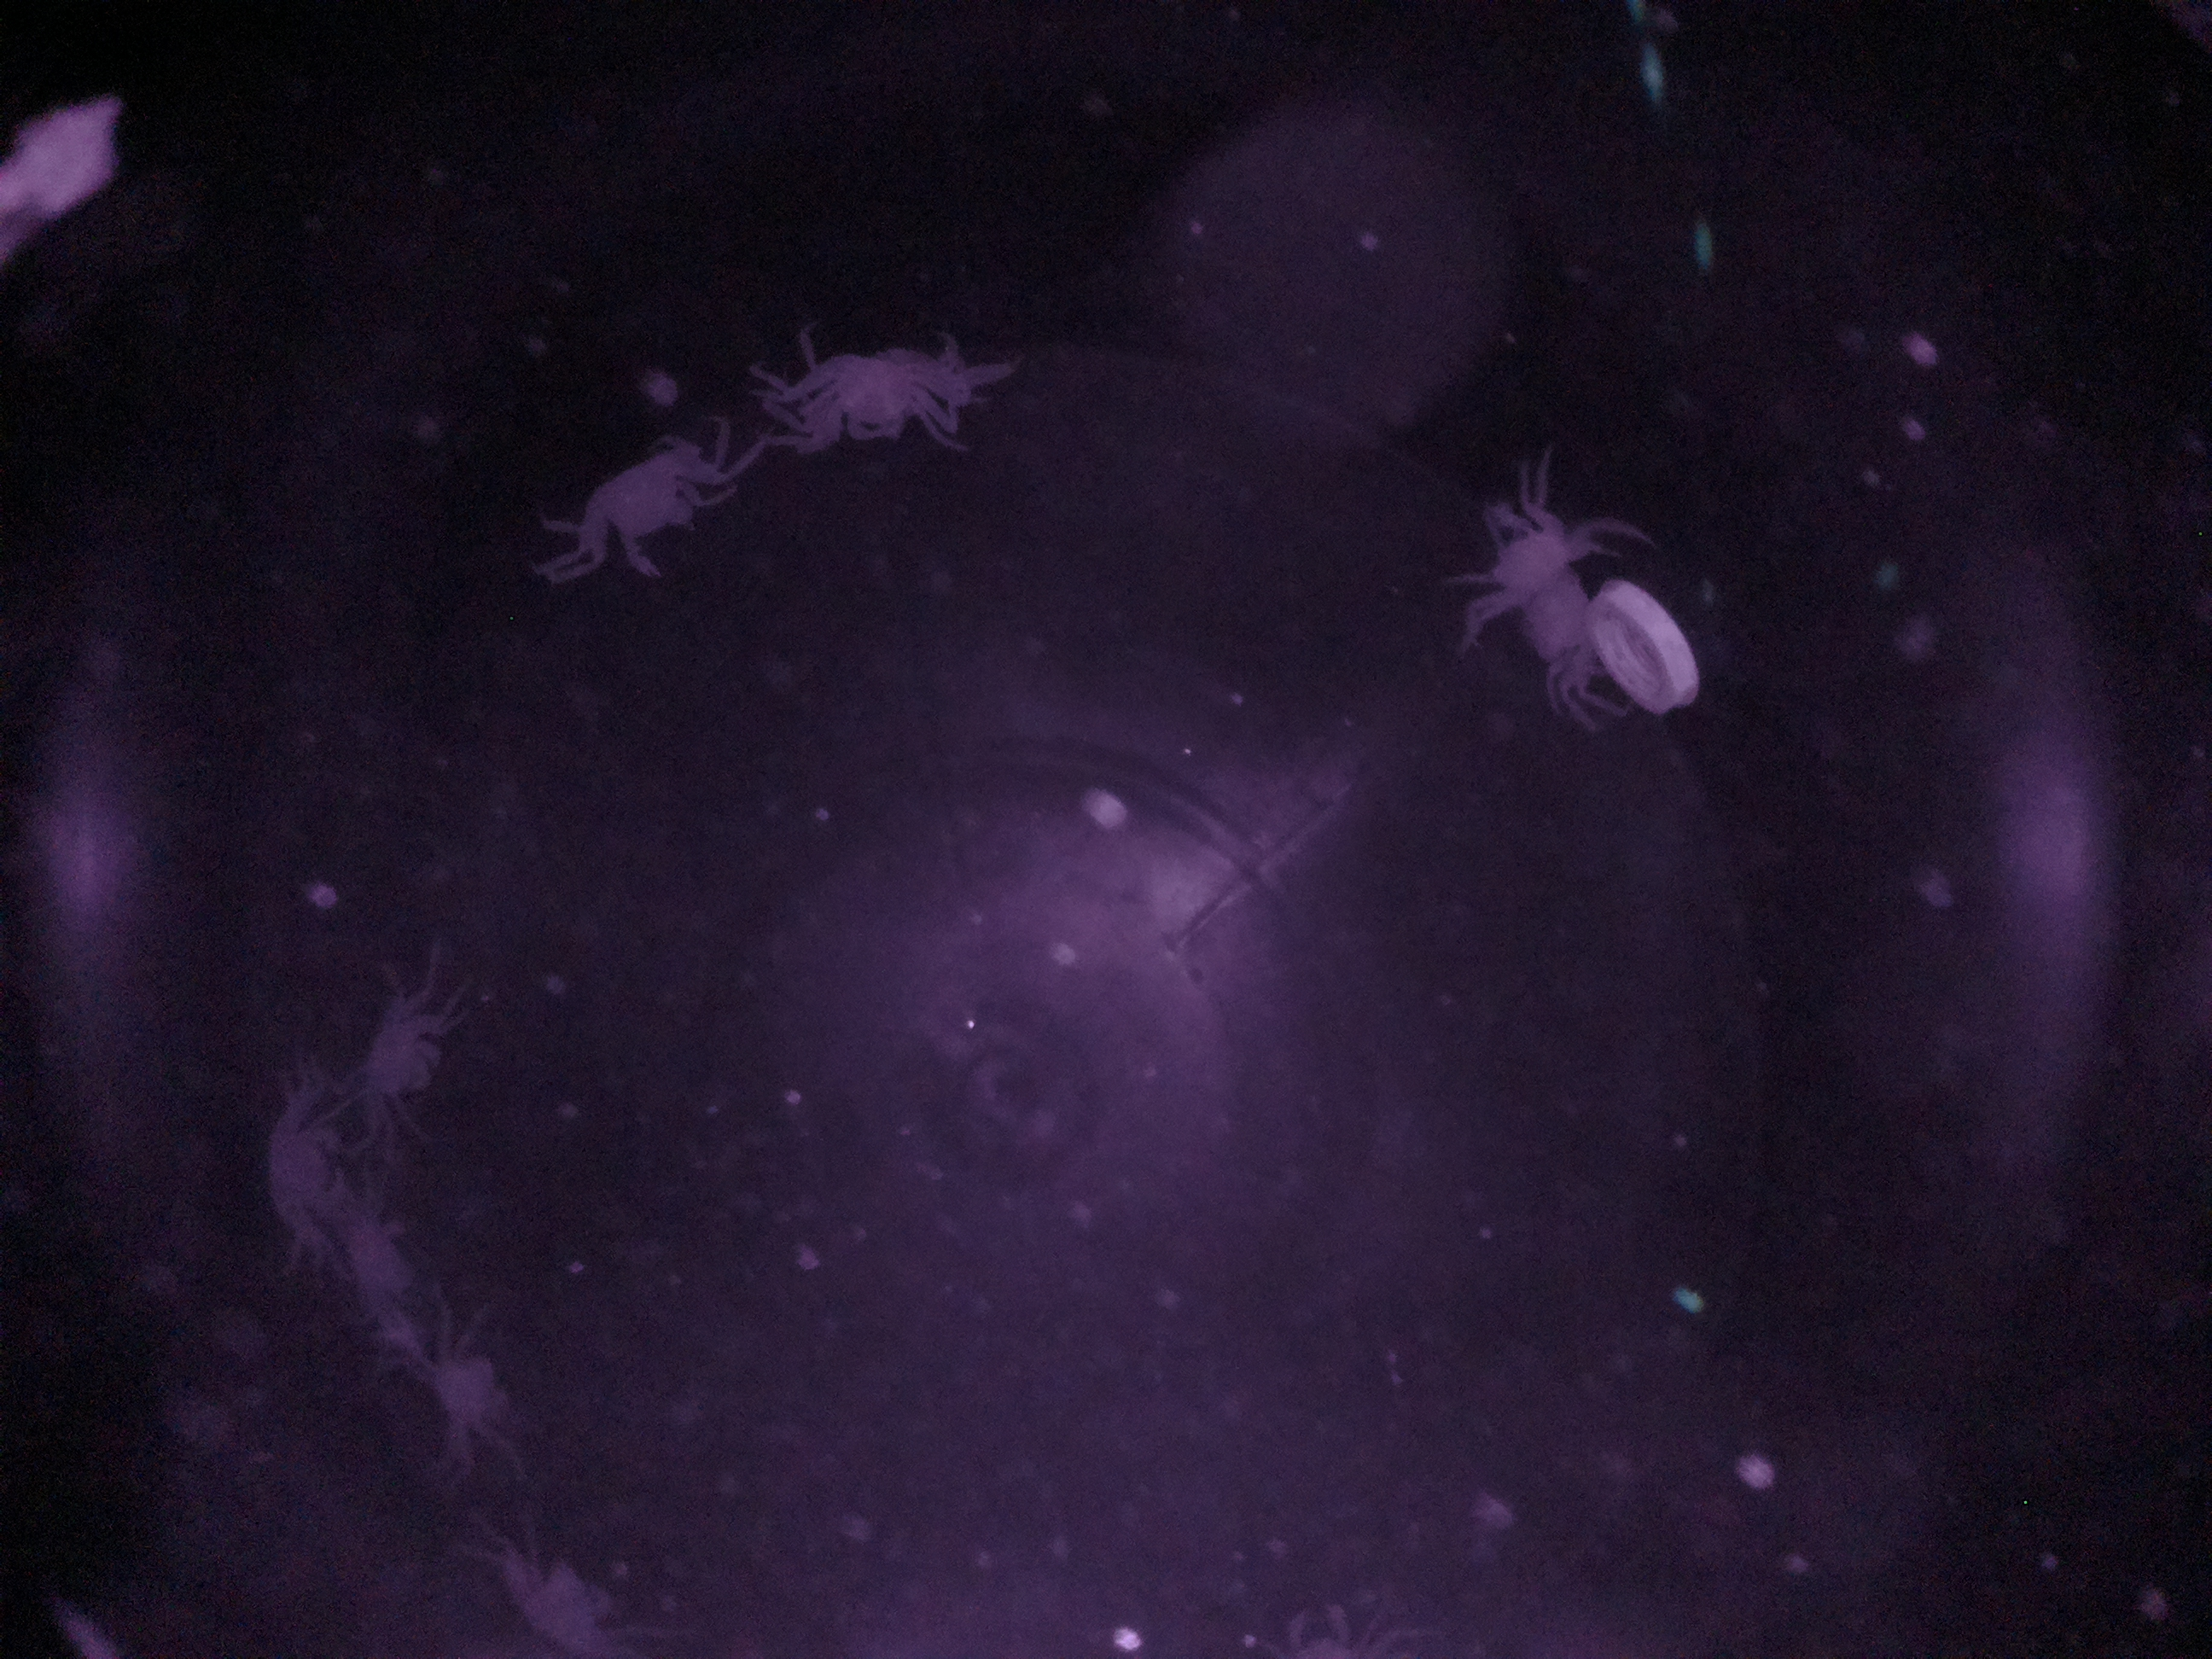Crab: (547, 416, 726, 587), (345, 971, 451, 1134)
